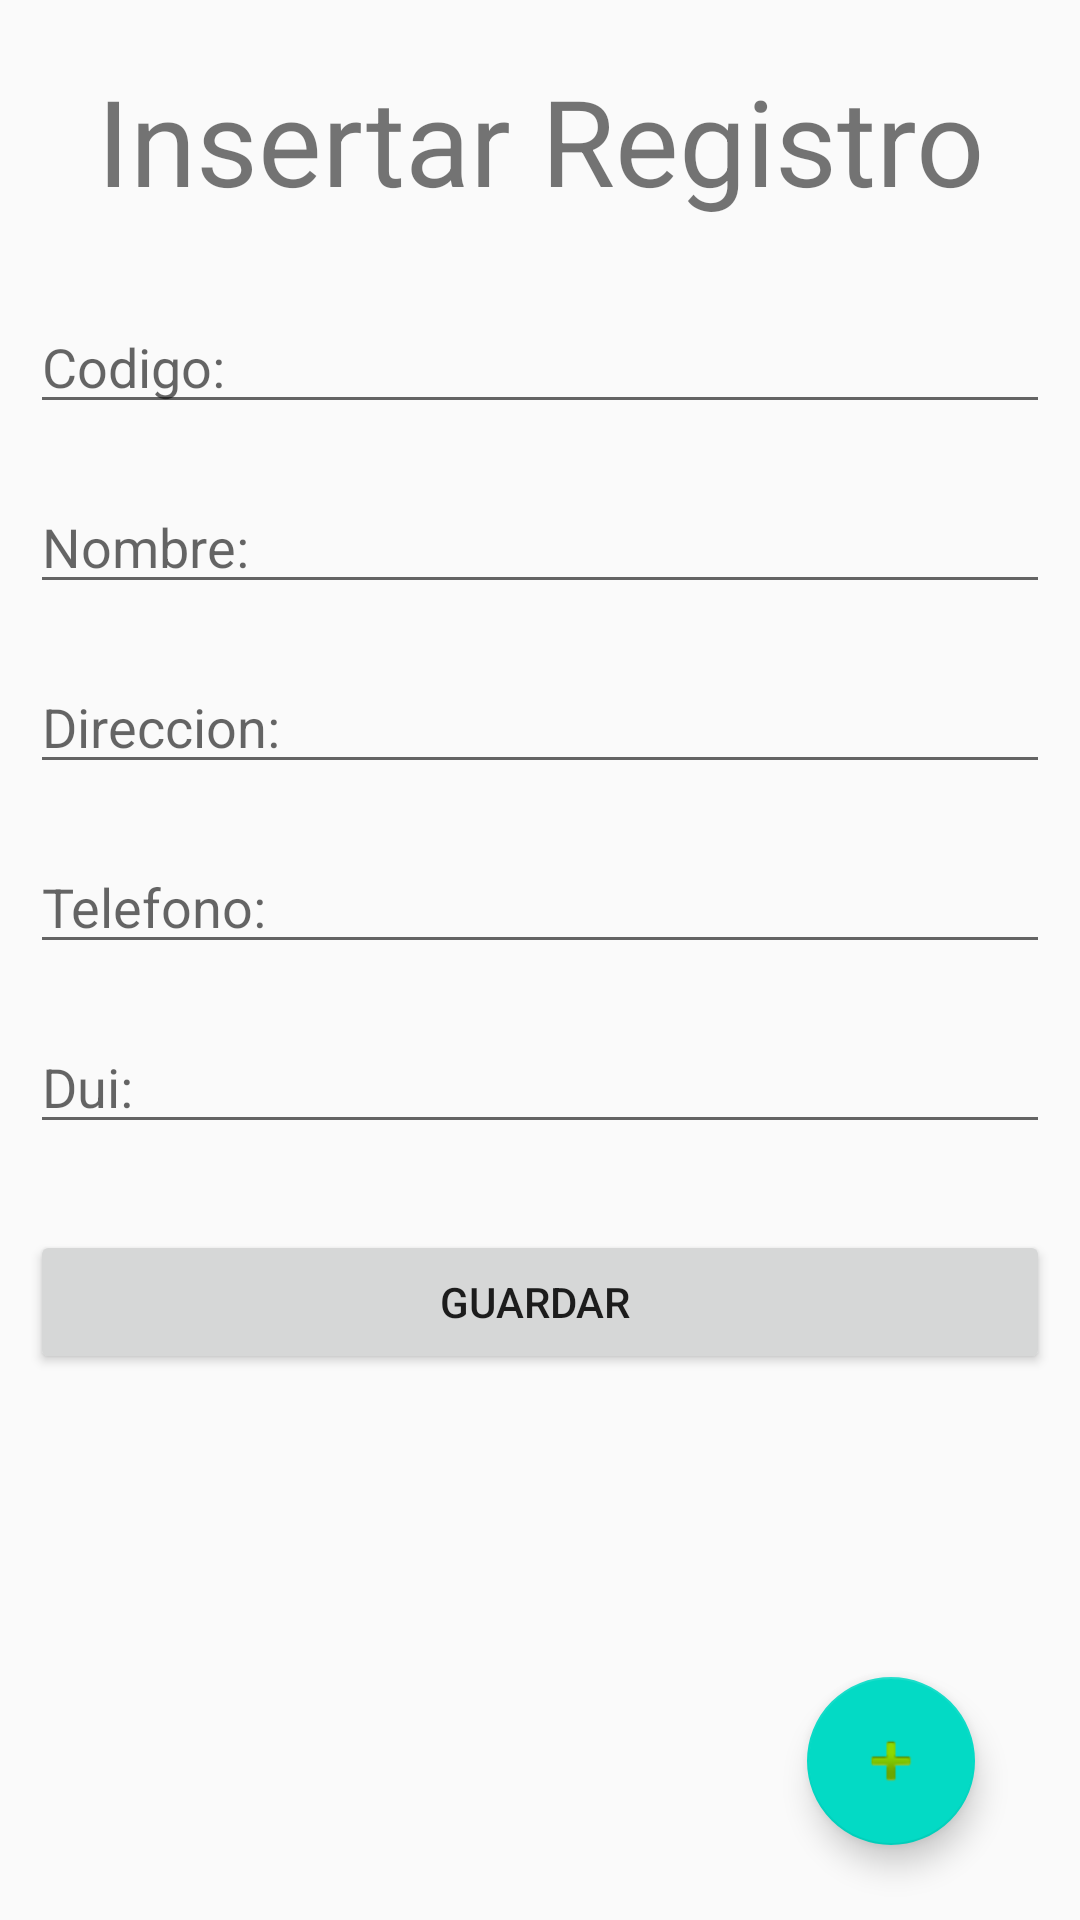

Icon bounding boxes for this 1080 × 1920 phone screenshot, format detection(x1, y1, x2, y2):
add: detection(807, 1677, 975, 1845)
